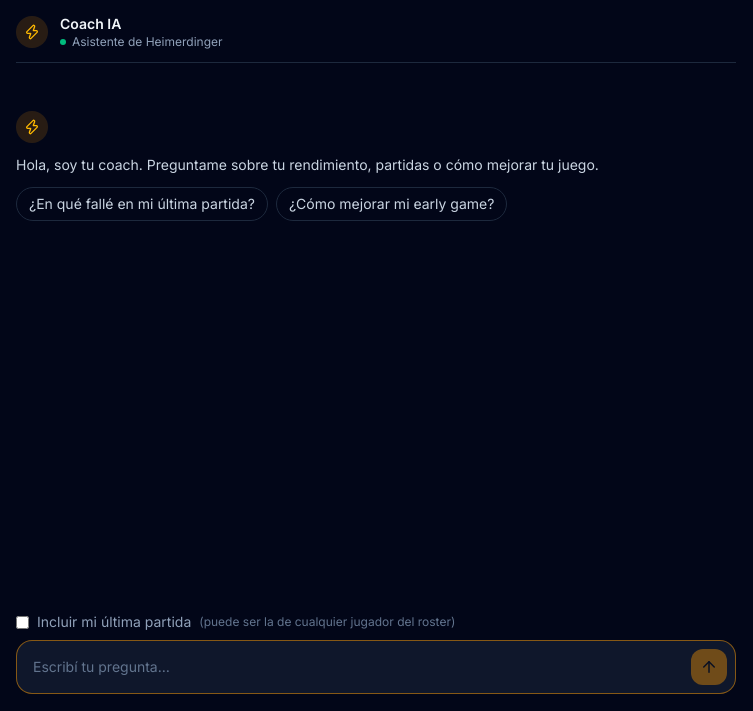
Test: coach chat › shows server copy and retry affordance on a server error
This screenshot has width=753, height=711.
In the field with placeholder "Escribí tu pregunta…": (354, 667) x1=25 y1=649 x2=683 y2=685, type "Hola"
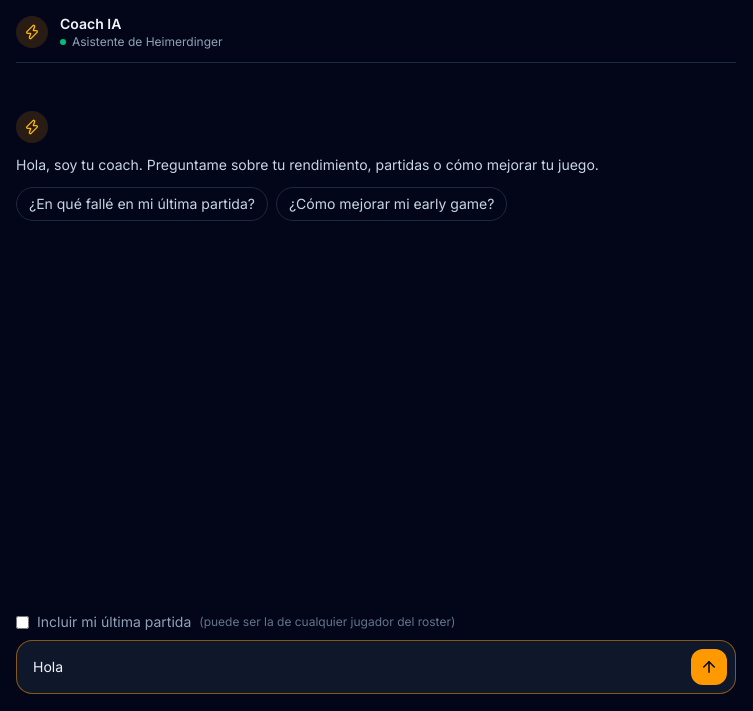
Click the button named "enviar": (709, 667) x1=691 y1=649 x2=727 y2=685
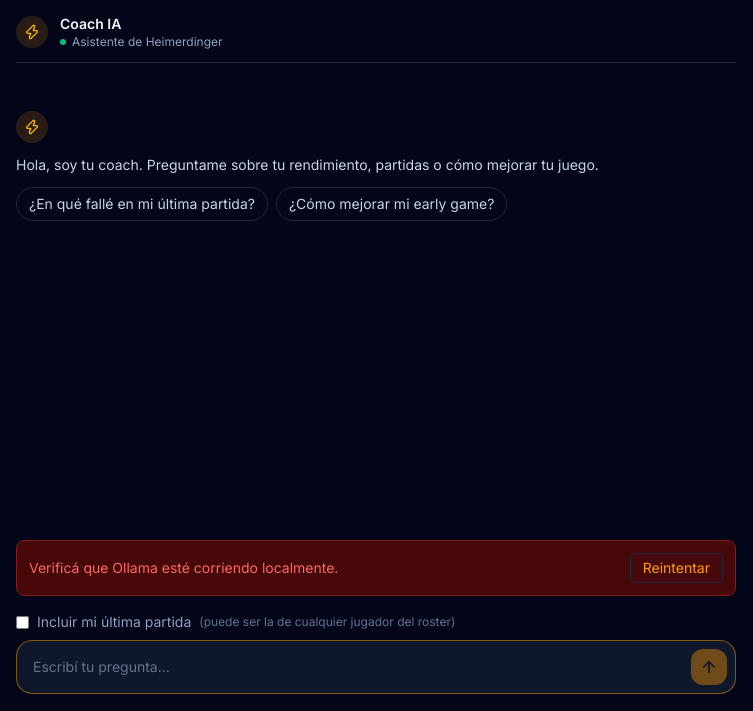
Expected: the text "Verificá que Ollama esté corriendo localmente." is shown, x1=29 y1=558 x2=338 y2=578
Expected: the button "Reintentar" is shown, x1=630 y1=553 x2=723 y2=583
